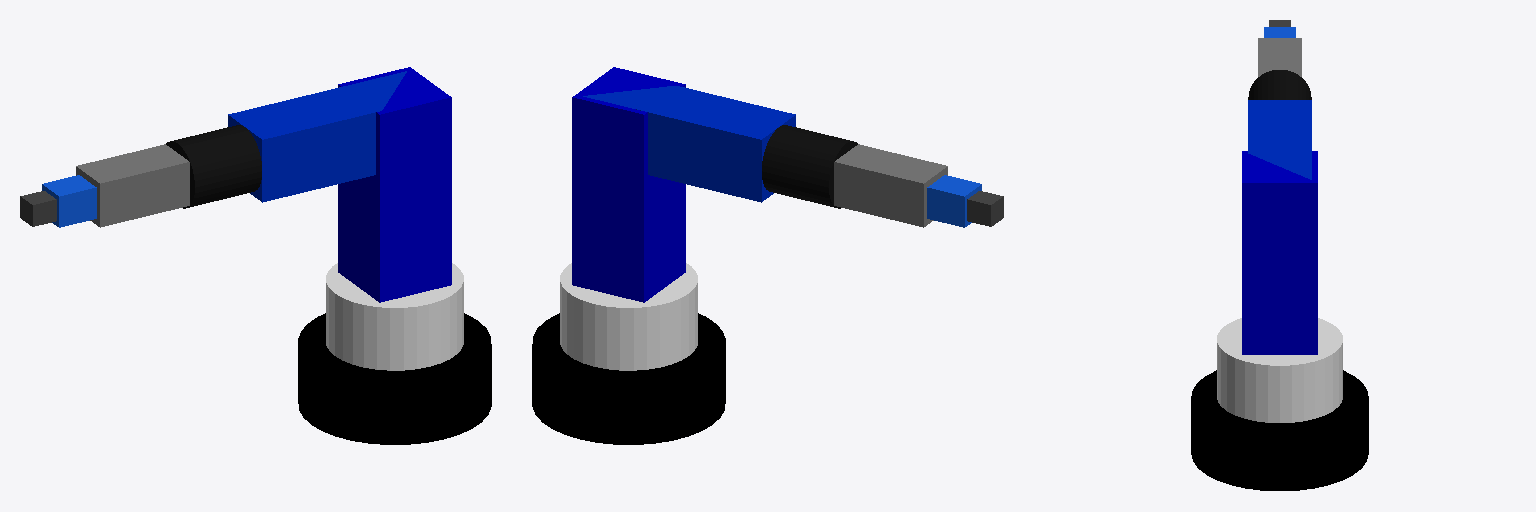
The robot description file, URDF, robot "6axis_robot":
<robot name="6axis_robot">

	<!-- * * * Link Definitions * * * -->

  	<link name="base_link">
		<visual>
			<origin xyz="0 0 0" rpy="0 0 0"/>
			<geometry>
				<cylinder radius="0.14" length="0.1"/>
			</geometry>
	     	<material name="Black">
				<color rgba="0 0 0 1"/>
			</material>
	   </visual>
	</link>

  	<link name="upperbase_link">
		<visual>
			<origin xyz="0 0 0.1" rpy="0 0 0"/>
			<geometry>
				<cylinder radius="0.1" length="0.1"/>
			</geometry>
	     	<material name="Grey2">
				<color rgba="0.9 0.9 0.9 1.0"/>
			</material>
	   </visual>
	</link>
	
	<link name="torso_link">
		<visual>
			<origin xyz="0 0 0.05" rpy="0 0 0"/>
			<geometry>
				<box size="0.05 0.05 0.1"/>
			</geometry>
	     	<material name="Green1">
				<color rgba="0 1 0 1.0"/>
			</material>
	   </visual>
	</link>
	
	<link name="shoulder_link">
		<visual>
			<origin xyz="0 0 0.15" rpy="0 0 0"/>
			<geometry>
				<box size="0.12 0.12 0.4"/>
			</geometry>
	     	<material name="Blue1">
				<color rgba="0 0 0.8 1.0"/>
			</material>
	   </visual>
	</link>

	<link name="upperarm_link">
		<visual>
			<origin xyz="0 0 0" rpy="0 0 0"/>
			<geometry>
				<box size="0.05 0.05 0.05"/>
			</geometry>
	     	<material name="Green2">
				<color rgba="0 1 0 1.0"/>
			</material>
	   </visual>
	</link>

	<link name="arm_link">
		<visual>
			<origin xyz="0 0 0.1" rpy="0 0 1.57"/>
			<geometry>
				<box size="0.1 0.1 0.3"/>
			</geometry>
	     	<material name="Blue2">
				<color rgba="0 0.2 0.8 1.0"/>
			</material>
	   </visual>
	</link>
	
	<link name="elbow_link">
		<visual>
			<origin xyz="0 0 -0.05" rpy="0 0 0"/>
			<geometry>
				<cylinder radius="0.05" length="0.125"/>
			</geometry>
	     	<material name="Black2">
				<color rgba="0.1 0.1 0.1 1.0"/>
			</material>
	   </visual>
	</link>
	
	<link name="forearm_link">
		<visual>
			<origin xyz="0 0 -0.025" rpy="0 0 0"/>
			<geometry>
				<box size="0.07 0.07 0.175"/>
			</geometry>
	     	<material name="Grey3">
				<color rgba="0.5 0.5 0.5 1.0"/>
			</material>
	   </visual>
	</link>
	
	<link name="wrist_link">
		<visual>
			<origin xyz="0 0 0" rpy="0 0 0"/>
			<geometry>
				<box size="0.05 0.05 0.1"/>
			</geometry>
	     	<material name="Blue3">
				<color rgba="0.1 0.4 0.9 1.0"/>
			</material>
	   </visual>
	</link>
	
	<link name="hand_link">
		<visual>
			<origin xyz="0 0 -0.01" rpy="0 0 0"/>
			<geometry>
				<box size="0.035 0.035 0.05"/>
			</geometry>
	     	<material name="Black4">
				<color rgba="0.3 0.3 0.3 1.0"/>
			</material>
	   </visual>
	</link>    
	
	<!-- * * * Joint Definitions * * * -->

	<joint name="base_joint" type="revolute">
    	<parent link="base_link"/>
    	<child link="upperbase_link"/>
    	<origin xyz="0 0 0" rpy="0 0 0"/>
    	<axis xyz="0 0 1"/>
    	<limit lower="-2.88" upper="2.88" effort="10" velocity="3"/>
  	</joint>
	
 	<joint name="upperbase_joint" type="fixed">
    	<parent link="upperbase_link"/>
    	<child link="torso_link"/>
    	<origin xyz="0 0 0" rpy="0 0 0"/>
	</joint>
	
 	<joint name="torso_joint" type="revolute">
    	<parent link="torso_link"/>
    	<child link="shoulder_link"/>
    	<origin xyz="0 0 0.1" rpy="0 0 0"/>
       	<limit lower="-2.18" upper="1.48" effort="10" velocity="3"/>
        <axis xyz="0 1 0"/>
	</joint>
	
	<joint name="shoulder_joint" type="fixed">
    	<parent link="shoulder_link"/>
    	<child link="upperarm_link"/>
    	<origin xyz="0. 0 0.3" rpy="0 -1.57 0"/>
	</joint>

	<joint name="upperarm_joint" type="revolute">
    	<parent link="upperarm_link"/>
    	<child link="arm_link"/>
    	<origin xyz="0 0 0" rpy="0 0 0"/>
       	<limit lower="-0.96" upper="3.23" effort="10" velocity="3"/>
        <axis xyz="0 1 0"/>
	</joint>
	
 	<joint name="arm_joint" type="fixed">
    	<parent link="arm_link"/>
    	<child link="elbow_link"/>
    	<origin xyz="0 0 0.35" rpy="0 0 0"/>
	</joint>
	
 	<joint name="elbow_joint" type="revolute">
    	<parent link="elbow_link"/>
    	<child link="forearm_link"/>
    	<origin xyz="0 0 0.1" rpy="0 0 0"/>
       	<limit lower="-3.31" upper="3.31" effort="10" velocity="3"/>
        <axis xyz="0 0 1"/>
	</joint>

 	<joint name="forearm_joint" type="revolute">
    	<parent link="forearm_link"/>
    	<child link="wrist_link"/>
    	<origin xyz="0 0 0.075" rpy="0 0 0"/>
       	<limit lower="-2.01" upper="2.01" effort="10" velocity="3"/>
        <axis xyz="0 1 0"/>
	</joint>
	
 	<joint name="wrist_joint" type="revolute">
    	<parent link="wrist_link"/>
    	<child link="hand_link"/>
    	<origin xyz="0 0 0.075" rpy="0 0 0"/>
        <limit lower="-6.28" upper="6.28" effort="10" velocity="3"/>
        <axis xyz="0 0 1"/>
	</joint>
 
</robot>

--- Facts derived from the render (not from the file) ---
Views: 3 orthographic renders of the robot side by side, from view 1: azimuth 30°, elevation 25°; view 2: azimuth 150°, elevation 25°; view 3: azimuth 270°, elevation 25°.
Model 6axis_robot with 10 links and 9 joints (6 revolute, 3 fixed), rooted at base_link, posed every joint at zero.
Visible links, largest first — view 1: shoulder_link, base_link, arm_link, upperbase_link, forearm_link, elbow_link, wrist_link, hand_link; view 2: shoulder_link, base_link, arm_link, upperbase_link, forearm_link, elbow_link, wrist_link, hand_link; view 3: shoulder_link, base_link, upperbase_link, arm_link, elbow_link, forearm_link.
Boxes of the visible links, bbox=[...] form: shoulder_link: bbox=[338, 67, 451, 302]; base_link: bbox=[298, 313, 491, 444]; arm_link: bbox=[228, 71, 406, 202]; upperbase_link: bbox=[326, 263, 463, 370]; forearm_link: bbox=[76, 144, 189, 227]; elbow_link: bbox=[166, 125, 261, 208]; wrist_link: bbox=[42, 175, 96, 227]; hand_link: bbox=[20, 191, 56, 226]; shoulder_link: bbox=[572, 67, 685, 302]; base_link: bbox=[532, 313, 725, 444]; arm_link: bbox=[583, 86, 795, 202]; upperbase_link: bbox=[560, 263, 697, 370]; forearm_link: bbox=[834, 144, 947, 227]; elbow_link: bbox=[762, 125, 857, 208]; wrist_link: bbox=[927, 175, 981, 227]; hand_link: bbox=[967, 191, 1003, 226]; shoulder_link: bbox=[1242, 151, 1317, 354]; base_link: bbox=[1191, 370, 1368, 490]; upperbase_link: bbox=[1217, 318, 1342, 422]; arm_link: bbox=[1248, 100, 1311, 179]; elbow_link: bbox=[1248, 70, 1311, 99]; forearm_link: bbox=[1258, 38, 1301, 76].
Bounding box of the posed robot: 0.755 × 0.28 × 0.5003 m (x, y, z).
Geometry: primitives only (box / cylinder / sphere), no mesh files.